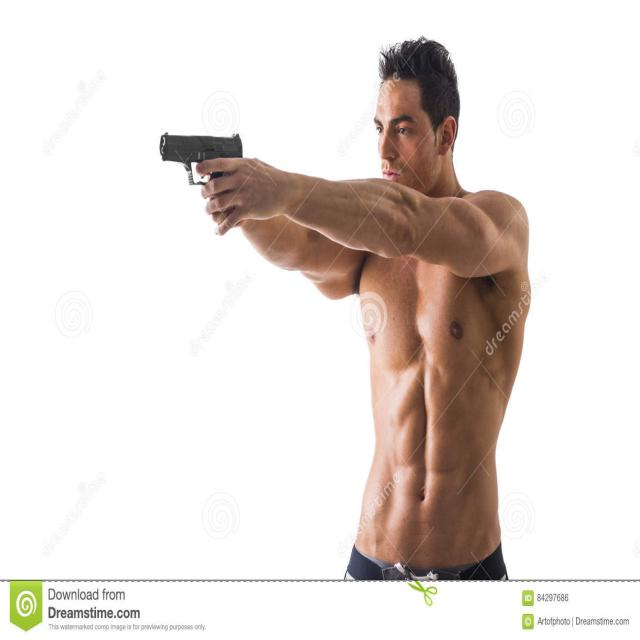HandGun: (159, 133, 246, 185)
